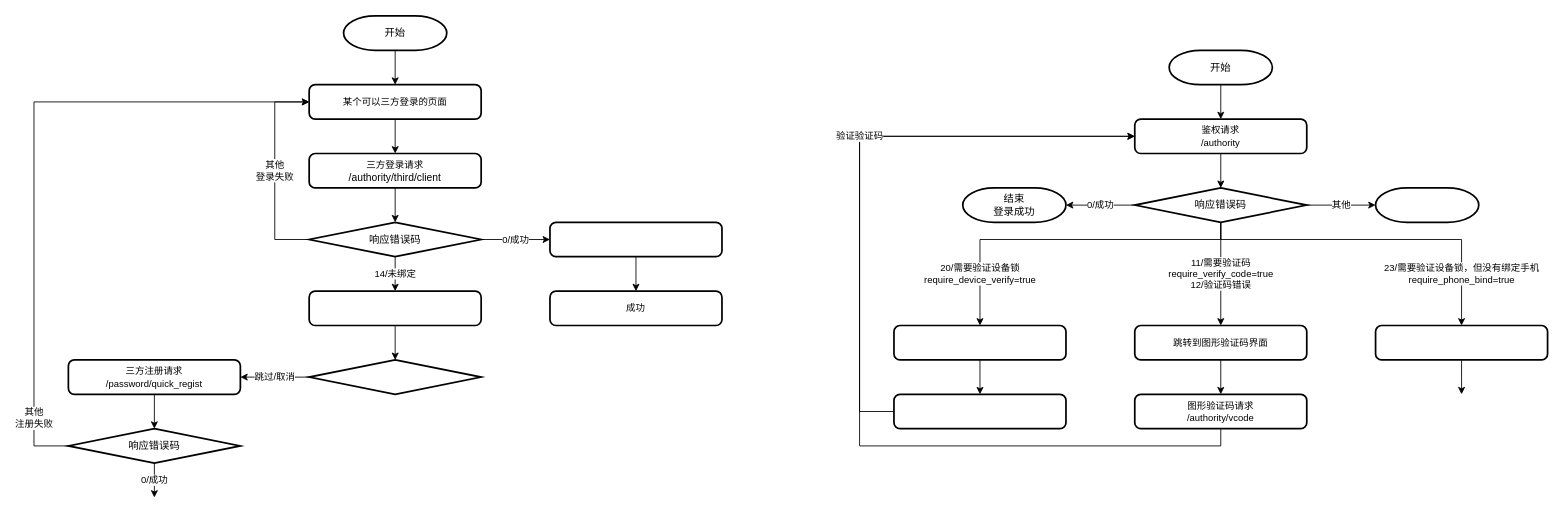
Some shapes in this 1563 by 519 pixel diagram are drawn without their labels. Here are the shapes that lost their labels. From the top down, the centre of each, then its label:
the point at 1426,205: 结束 登录失败
the point at 635,239: 鉴权请求
the point at 395,308: 跳转至绑定手机号页面
the point at 979,342: 跳转到短信验设备锁界面
the point at 1461,342: 跳转到引导绑定手机号界面 （引导至H5）
the point at 395,377: 用户操作
the point at 979,411: 发送短信验证码请求 /authority/req_device_code
